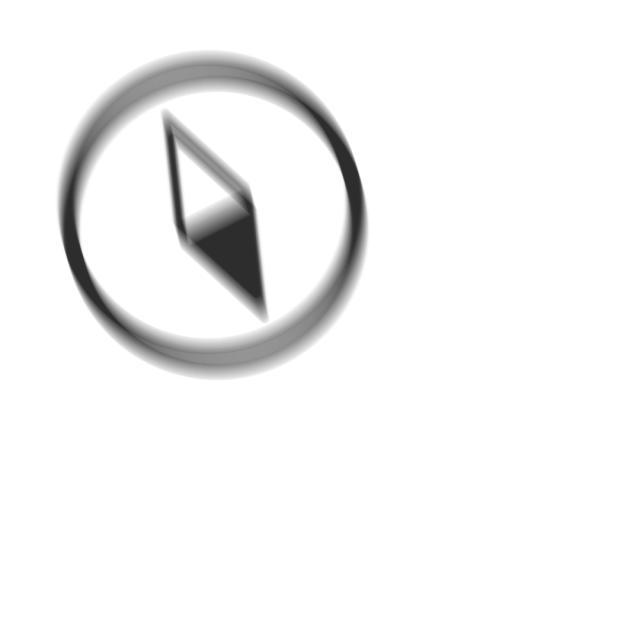compass: (53, 46, 381, 386)
